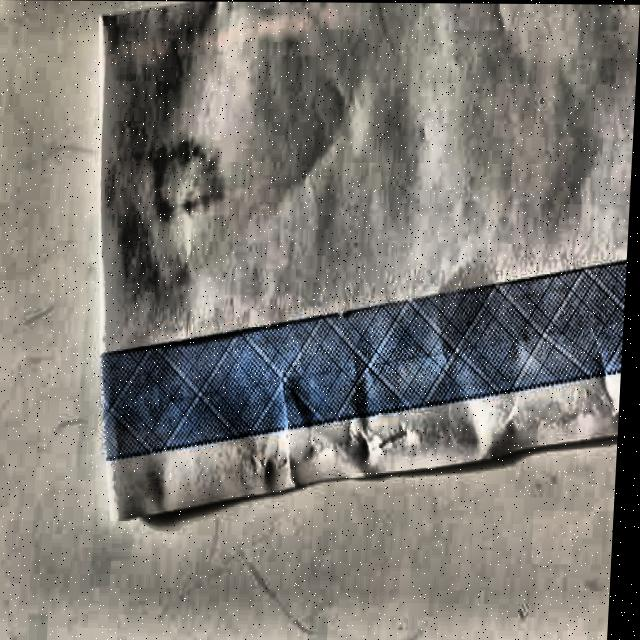paper: (73, 1, 640, 528)
